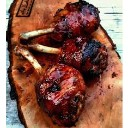chicken_lollipop: (12, 46, 84, 128), (24, 40, 112, 77), (14, 2, 102, 38)
